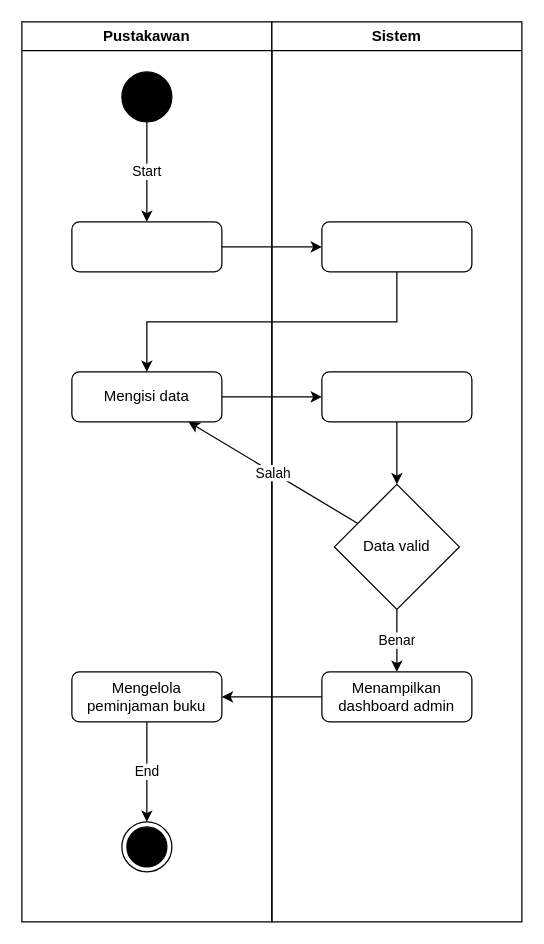
This 544x944 diagram has some shape labels left out. Here are the shapes that lost their labels. From the top down, the centre of each, then its label:
the point at 146,246: Masuk web Pustakanesia
the point at 396,246: Menampilkan form login
the point at 396,396: Validasi data
